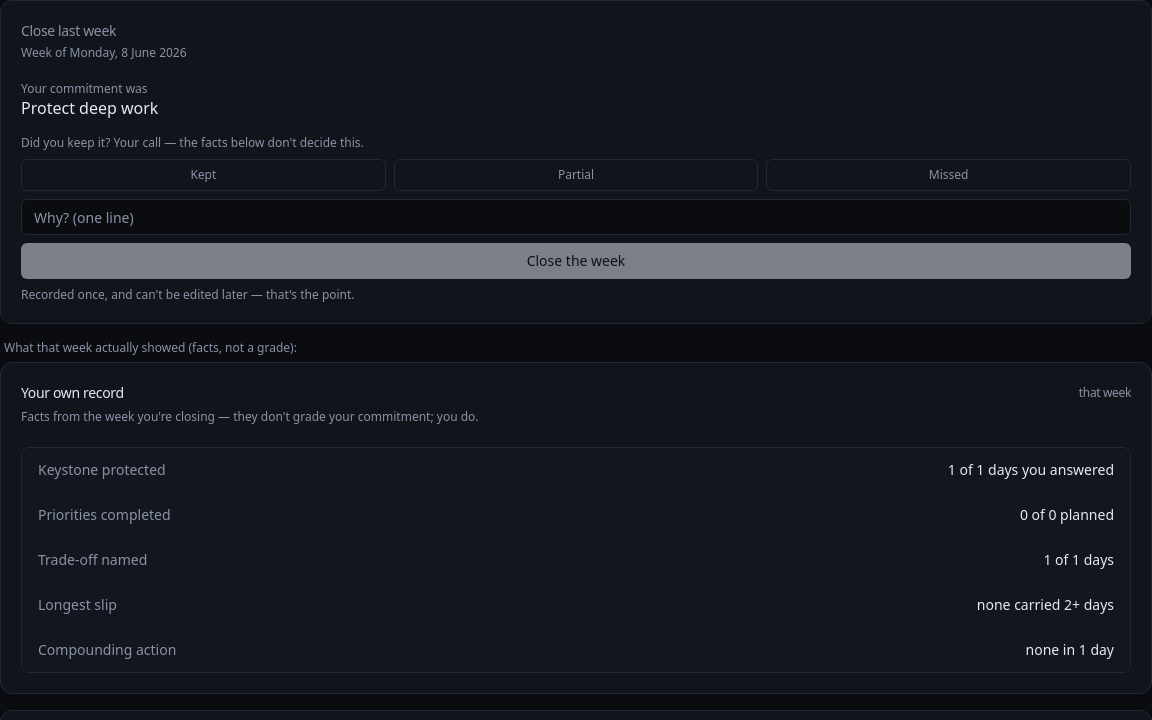
WeeklyReview › closes an elapsed unreviewed week with a once-only verdict
Expected: the heading "Close last week" is shown, [21, 21, 116, 40]
Expected: the text "Protect deep work" is shown, [21, 97, 158, 119]
The verdict is the user's call.
Step 1. Click the button "kept" → (203, 175), box [21, 159, 386, 191]
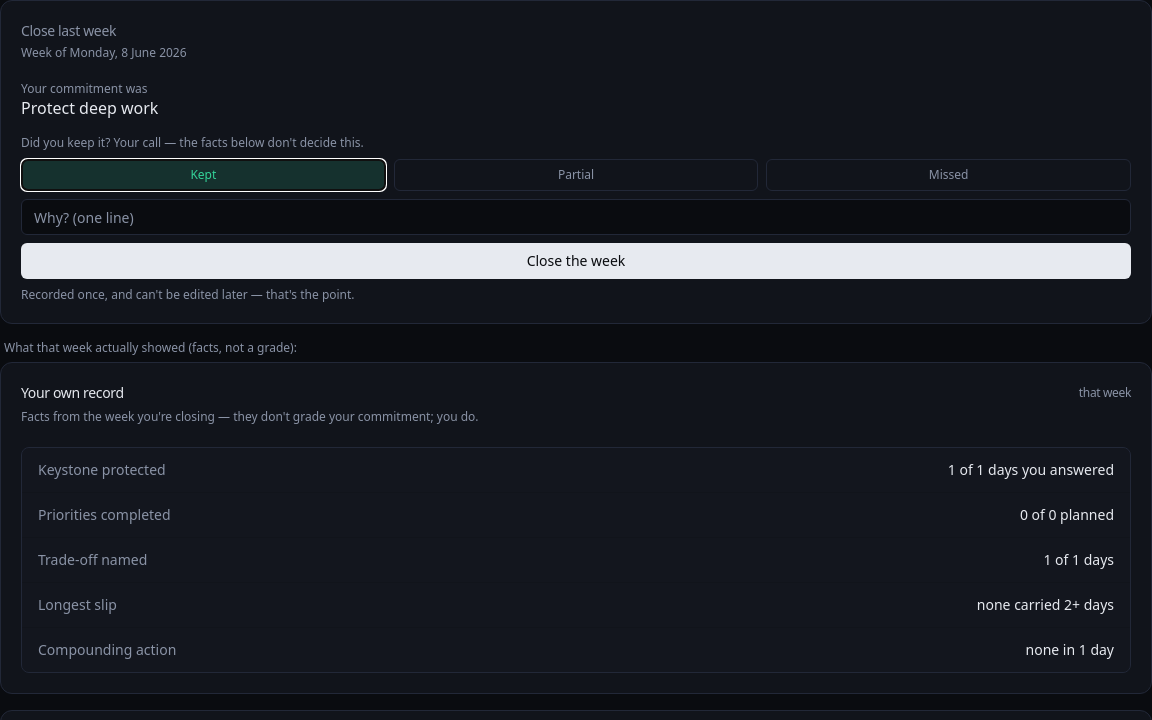
Step 2. Click the button "Close the week" → (576, 261), box [21, 243, 1131, 279]
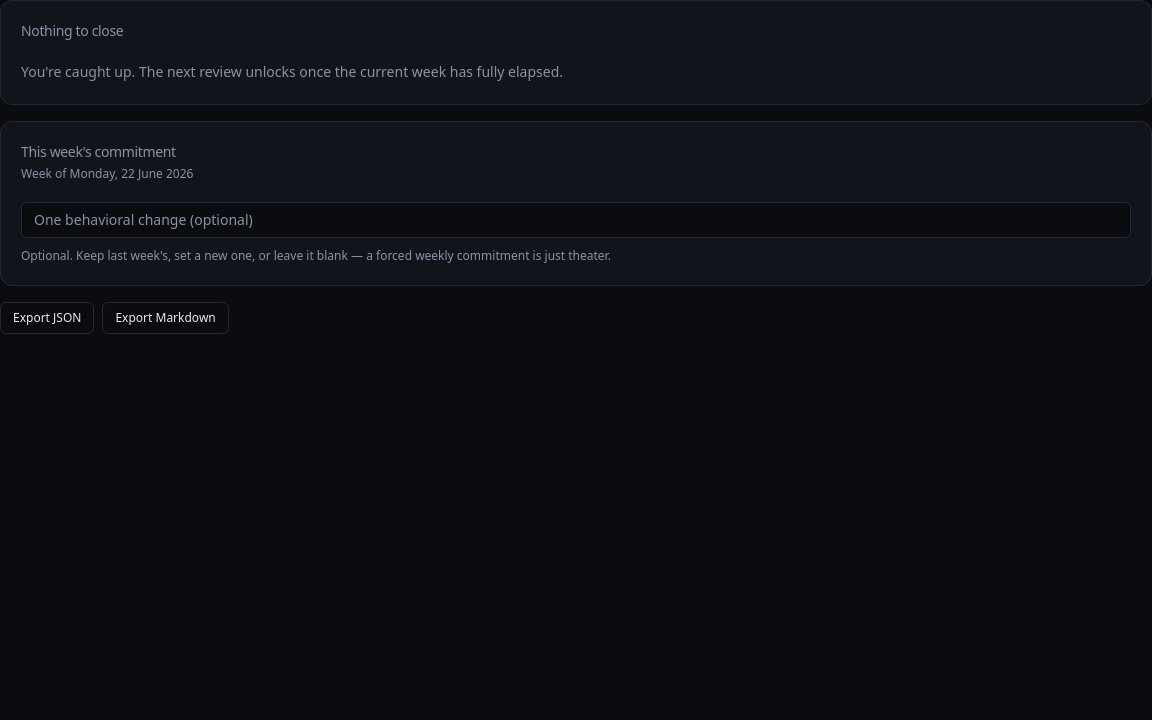
Result: the heading "Nothing to close" is shown at [21, 21, 123, 40]
